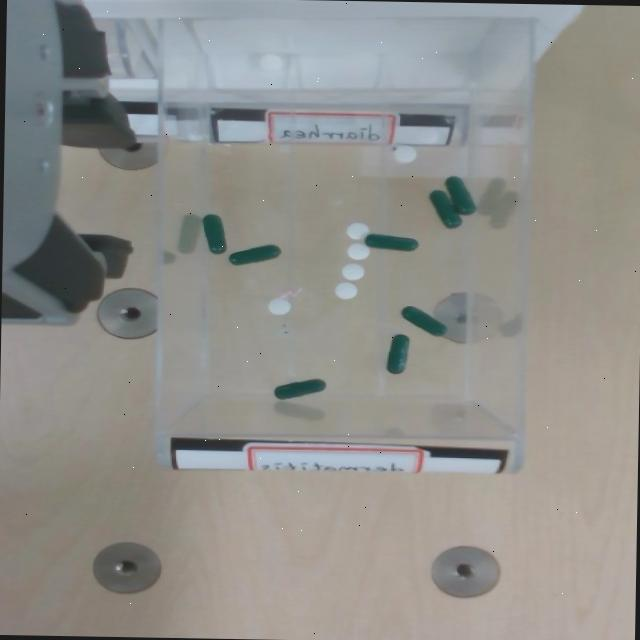ganakan_tab: (331, 281, 359, 300), (265, 297, 291, 316), (391, 144, 416, 163), (344, 222, 369, 239), (340, 262, 363, 280), (392, 146, 416, 163), (346, 242, 369, 259), (266, 298, 289, 315), (346, 223, 368, 240), (335, 282, 356, 299), (347, 243, 368, 260), (341, 264, 363, 280)
monodoxy_cap: (400, 305, 448, 337), (427, 188, 463, 228), (442, 175, 477, 216), (401, 307, 446, 336), (428, 190, 461, 229), (272, 377, 326, 400), (227, 244, 281, 267), (444, 177, 475, 215), (200, 213, 228, 255), (273, 379, 325, 400), (363, 232, 420, 251), (384, 334, 410, 375), (228, 245, 280, 265), (201, 215, 225, 254), (364, 234, 418, 251), (386, 335, 409, 373)
